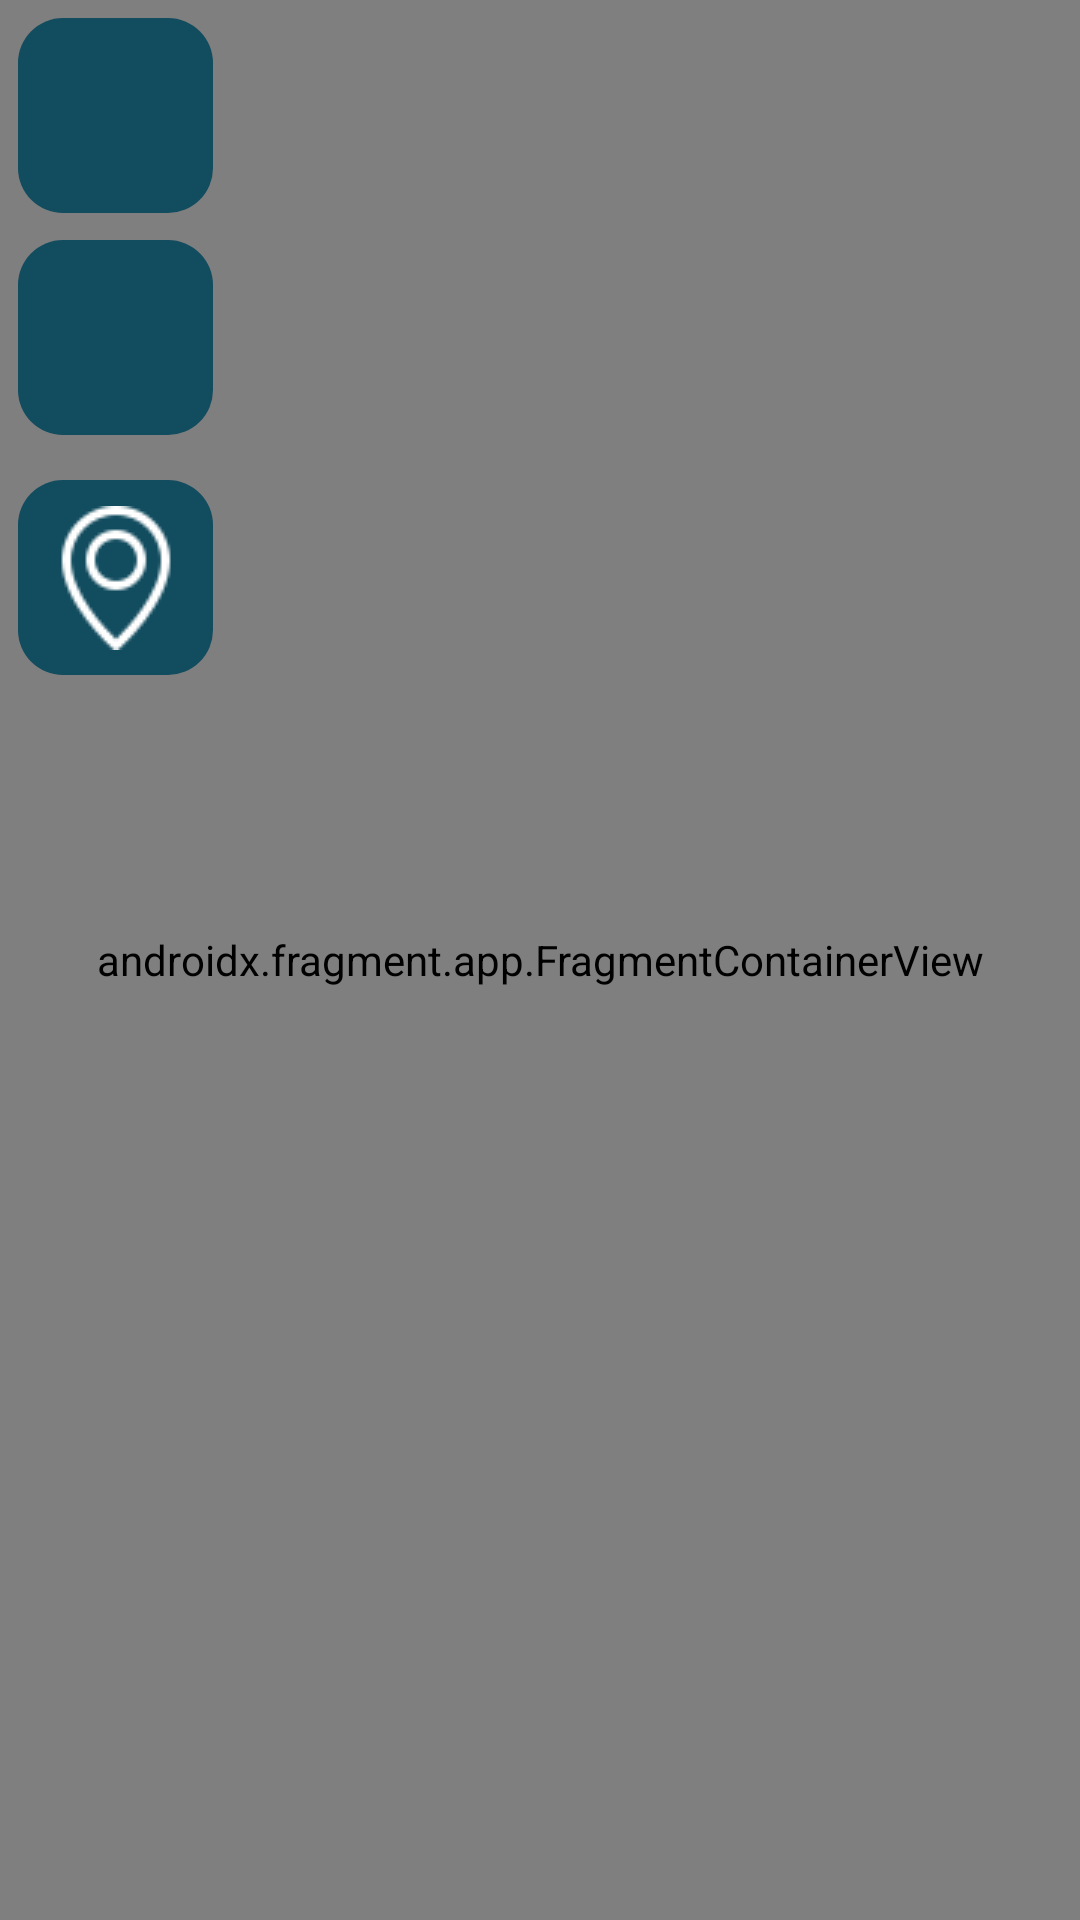

Where to tap for icons on this 1080x1920 app screen, as point (x, y):
ubicacion: point (115, 577)
